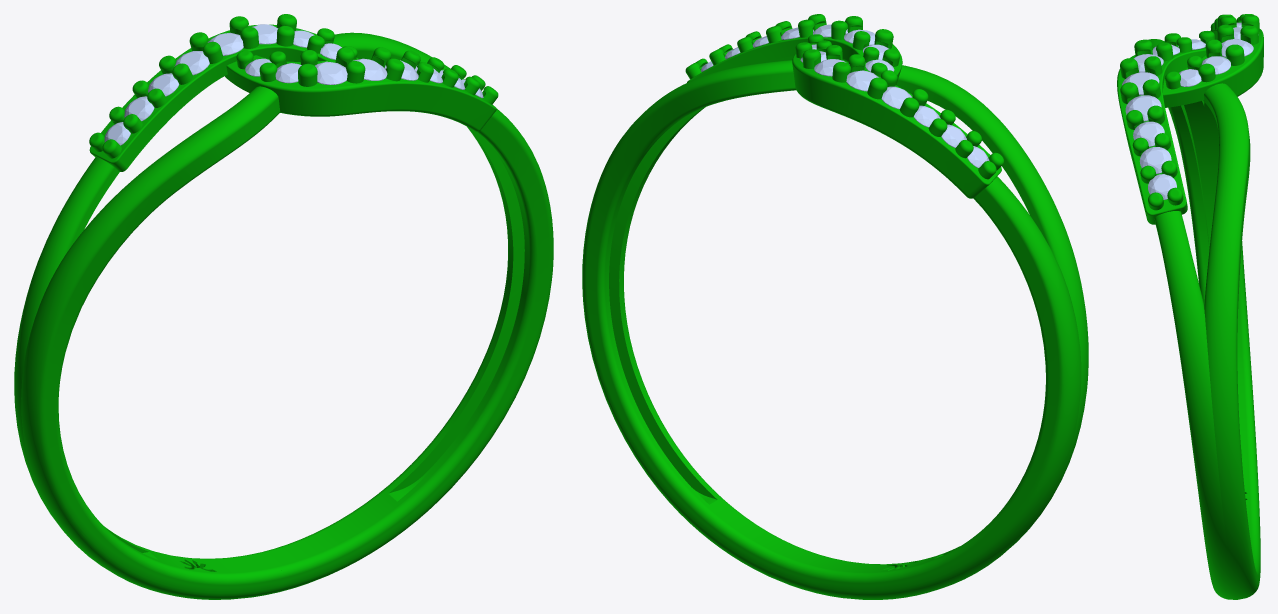
3 renders of one model, left to right at view 1: azimuth 30°, elevation 25°; view 2: azimuth 150°, elevation 25°; view 3: azimuth 270°, elevation 25°, orthographic. The views are drawn at different scales.
Visible parts, largest first — view 1: 8.3dm; view 2: 8.3dm; view 3: 8.3dm.
Boxes of the visible parts, <box> form: 8.3dm: <box>14,14,553,599</box>; 8.3dm: <box>582,14,1088,599</box>; 8.3dm: <box>1117,14,1263,599</box>.
Size of the model in its own units: 2.73 by 2.84 by 0.7074.
